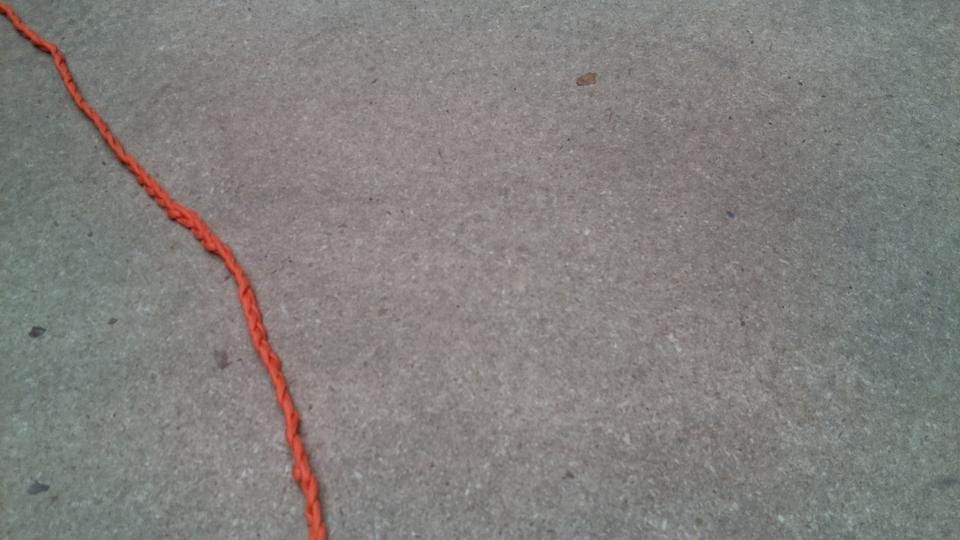rope: (1, 6, 321, 537)
